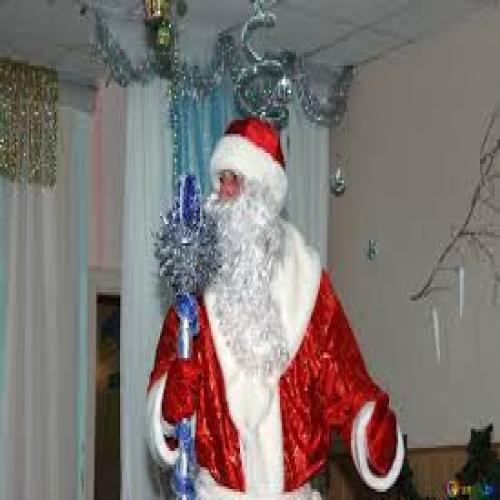Santa: (144, 115, 407, 497)
